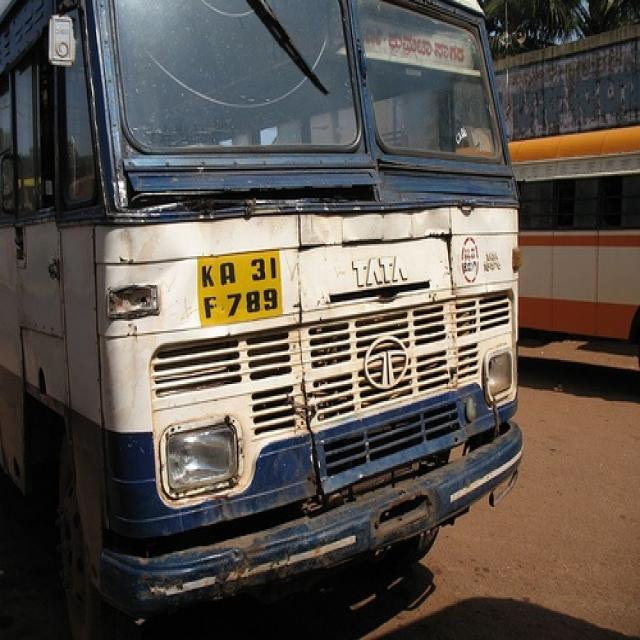bus: (3, 1, 522, 636), (507, 125, 639, 367)
